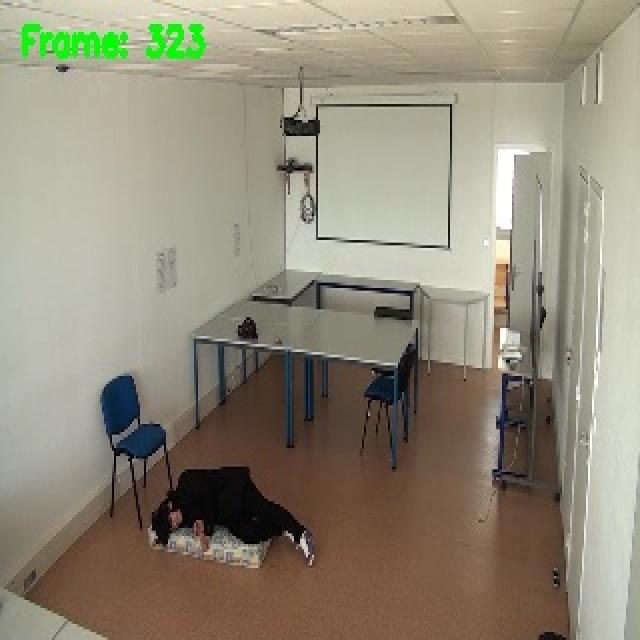Fall: (150, 467, 316, 568)
